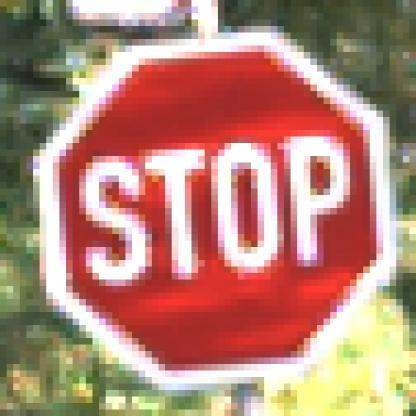Stop: (40, 39, 384, 388)
